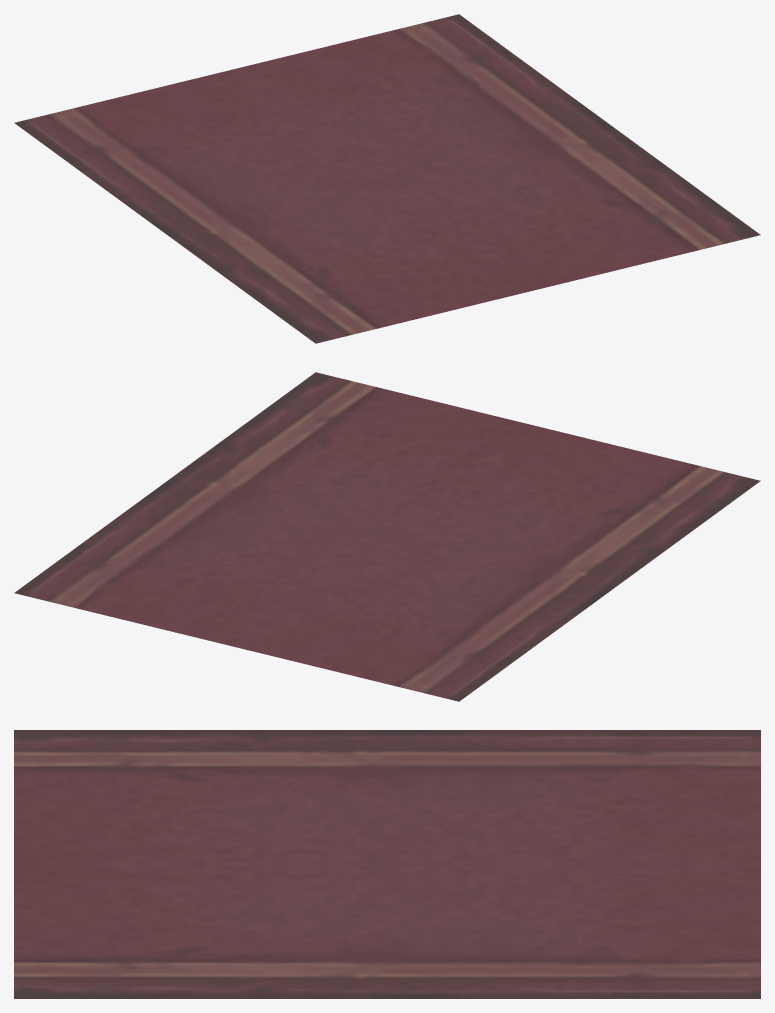
File: unity_dungeon_carpet01.FBX
The picture shows the model from 3 angles, top to bottom: view 1: azimuth 30°, elevation 25°; view 2: azimuth 150°, elevation 25°; view 3: azimuth 270°, elevation 25°; orthographic projection. The views are drawn at different scales.
Parts seen in each view (by area): view 1: unity_dungeon_carpet01; view 2: unity_dungeon_carpet01; view 3: unity_dungeon_carpet01.
Boxes of the visible parts, x1=… form: unity_dungeon_carpet01: x1=14, y1=14, x2=760, y2=343; unity_dungeon_carpet01: x1=14, y1=372, x2=760, y2=701; unity_dungeon_carpet01: x1=14, y1=730, x2=760, y2=998.
Bounding box in the file's own units: 3.33 × 1.71e-07 × 3.91.
